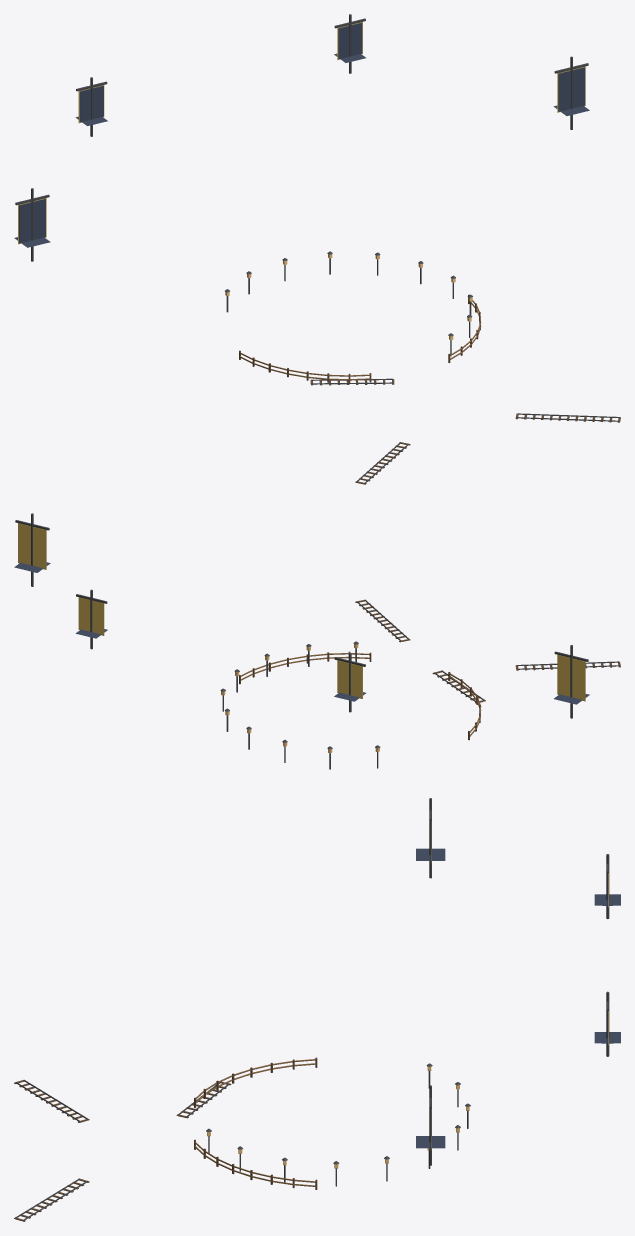
Rendered from 07_Props.fbx.
3 views of the same model, one above another, from view 1: azimuth 30°, elevation 25°; view 2: azimuth 150°, elevation 25°; view 3: azimuth 270°, elevation 25° (orthographic). The views are drawn at different scales.
Parts seen in each view (by area): view 1: Est_R_Pano, Est_L_Pano, Est_M_Pano, Est_M2_Pano; view 2: Est_L_Mold, Est_R_Mold, Est_M_Mold, Est_M2_Mold; view 3: no part large enough to name.
Part boxes in pixels (box(x1,y1,x2,y2)): Est_R_Pano: box(558, 67, 585, 111); Est_L_Pano: box(19, 199, 45, 243); Est_M_Pano: box(338, 22, 362, 59); Est_M2_Pano: box(79, 85, 103, 122); Est_L_Mold: box(557, 654, 585, 701); Est_R_Mold: box(18, 523, 46, 569); Est_M_Mold: box(78, 597, 104, 635); Est_M2_Mold: box(337, 660, 362, 698).
Size of the model in its own units: 20390 by 7096 by 17139.
